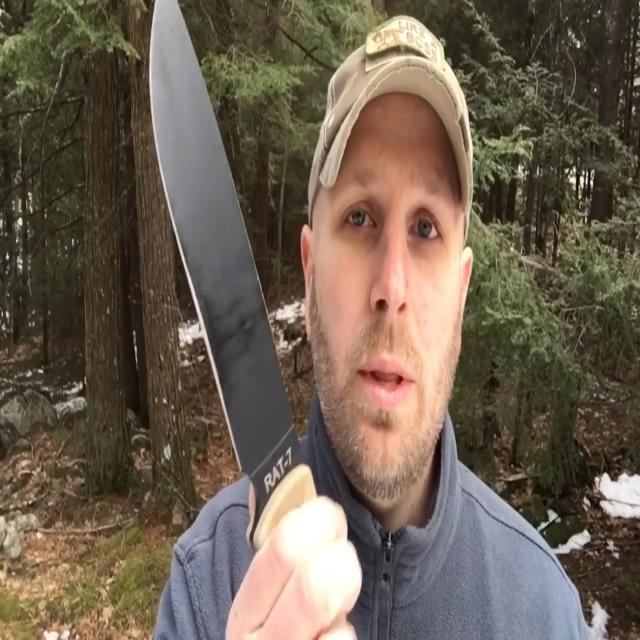knife: (141, 1, 313, 511)
